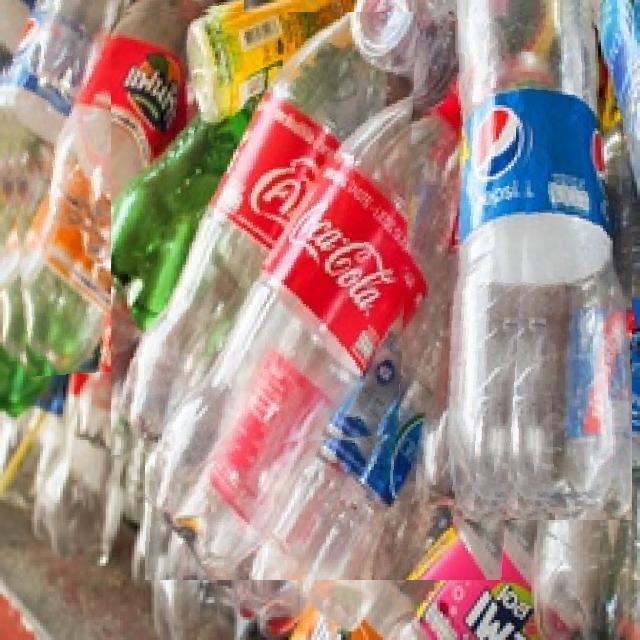plastic bottle: (145, 73, 530, 580), (111, 12, 416, 451), (444, 1, 632, 520), (23, 0, 244, 372)
